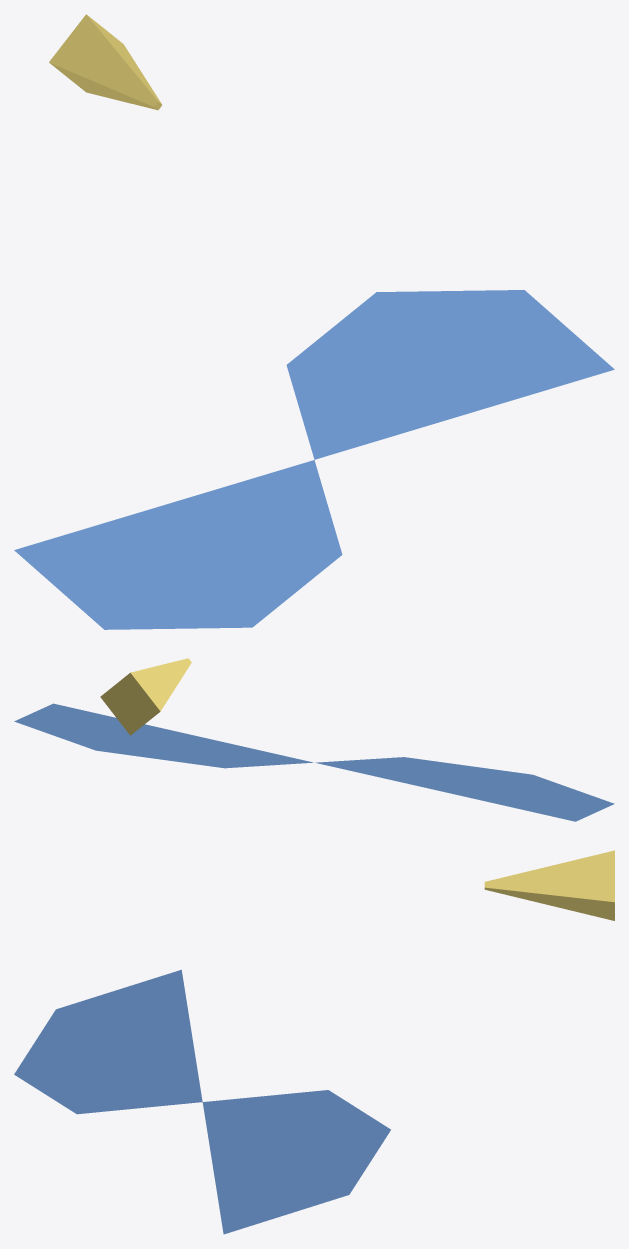
The model's file is bird.dae.
3 renders of one model, top to bottom at view 1: azimuth 30°, elevation 25°; view 2: azimuth 150°, elevation 25°; view 3: azimuth 270°, elevation 25°, orthographic. The views are drawn at different scales.
Parts seen in each view (by area): view 1: WingFeatherL, WingFeatherR, Cone; view 2: WingFeatherL, WingFeatherR, Cone; view 3: WingFeatherL, WingFeatherR, Cone.
Boxes of the visible parts, x1,y1,x2,y2 form: WingFeatherL: [14, 460, 342, 629]; WingFeatherR: [286, 290, 614, 459]; Cone: [49, 14, 161, 110]; WingFeatherL: [315, 757, 614, 821]; WingFeatherR: [14, 703, 313, 768]; Cone: [100, 658, 191, 735]; WingFeatherL: [14, 969, 202, 1114]; WingFeatherR: [202, 1090, 390, 1234]; Cone: [484, 850, 614, 920].
Bounding box in the file's own units: 30 × 27.69 × 15.13.
